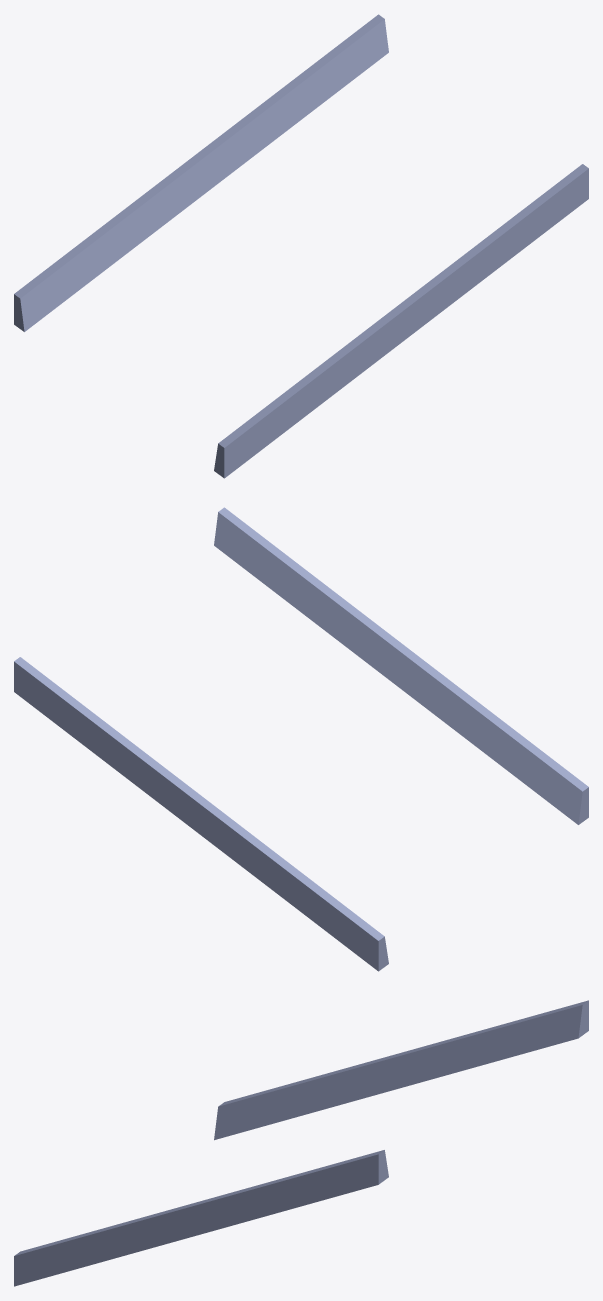
The model's file is road-slant-high-barrier.glb.
3 views of the same model, one above another, from view 1: azimuth 30°, elevation 25°; view 2: azimuth 150°, elevation 25°; view 3: azimuth 330°, elevation 25° (orthographic).
Visible parts, largest first — view 1: road-slant-high-barrier; view 2: road-slant-high-barrier; view 3: road-slant-high-barrier.
Boxes of the visible parts, left/top/right/bottom form: road-slant-high-barrier: left=14, top=14, right=588, bottom=478; road-slant-high-barrier: left=14, top=507, right=588, bottom=971; road-slant-high-barrier: left=14, top=1000, right=588, bottom=1286.
Size of the model in its own units: 10 by 5.8 by 10.
1 material, 1 textured.
